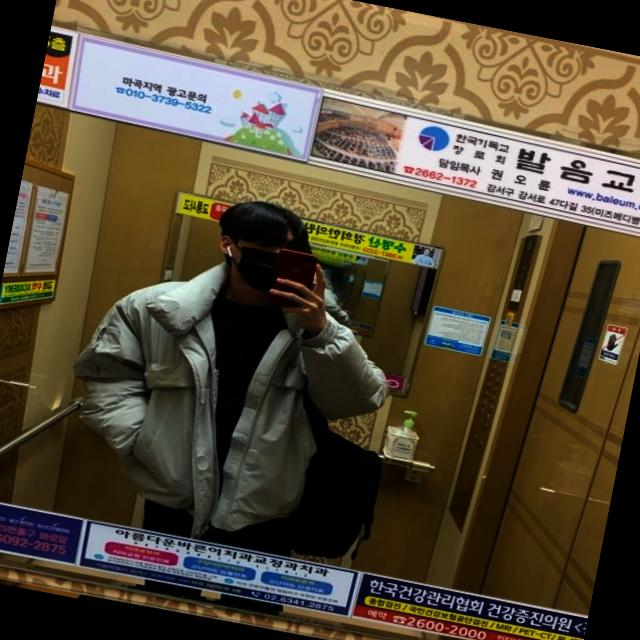padding: (54, 233, 412, 554)
